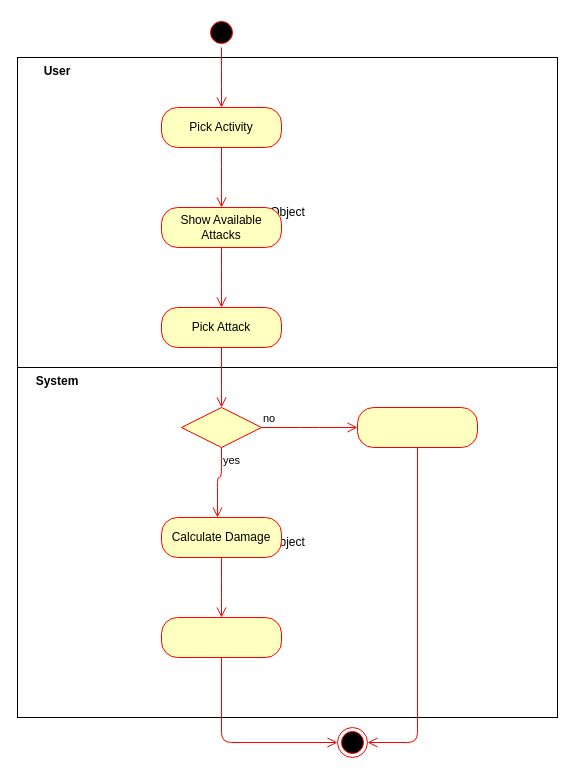
The diagram is 575 pixels wide and 775 high, and some of its shapes have lost their labels. Here are the shapes that lost their labels. From the top down, the centre of each, then its label:
the point at 221,427: Hit
the point at 417,427: Miss
the point at 221,637: Apply damage to target
